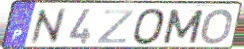4: (67, 7, 93, 47)
M: (161, 8, 207, 45)
N: (28, 7, 67, 47)
O: (198, 7, 235, 46), (132, 7, 168, 46)
Z: (95, 8, 136, 45)
